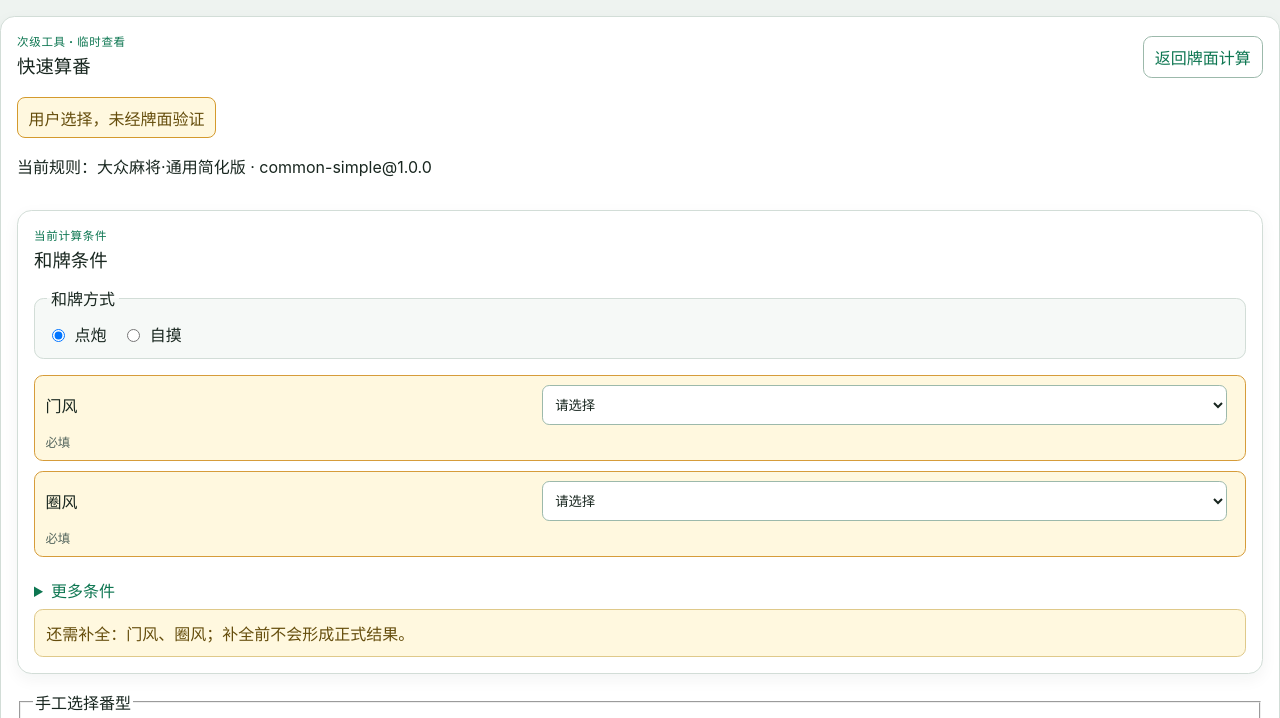
Test: QuickCalcPanel › inherits the rule, selects patterns and keeps the result visibly unverified
Expected: the text "用户选择，未经牌面验证" is shown once, x1=17 y1=97 x2=216 y2=138
Expected: the text "当前规则：大众麻将·通用简化版 · common-simple@1.0.0" is shown, x1=17 y1=157 x2=432 y2=177
Select "东风" in the dropdown labelled "门风" at (884, 405), box x1=542 y1=385 x2=1227 y2=425
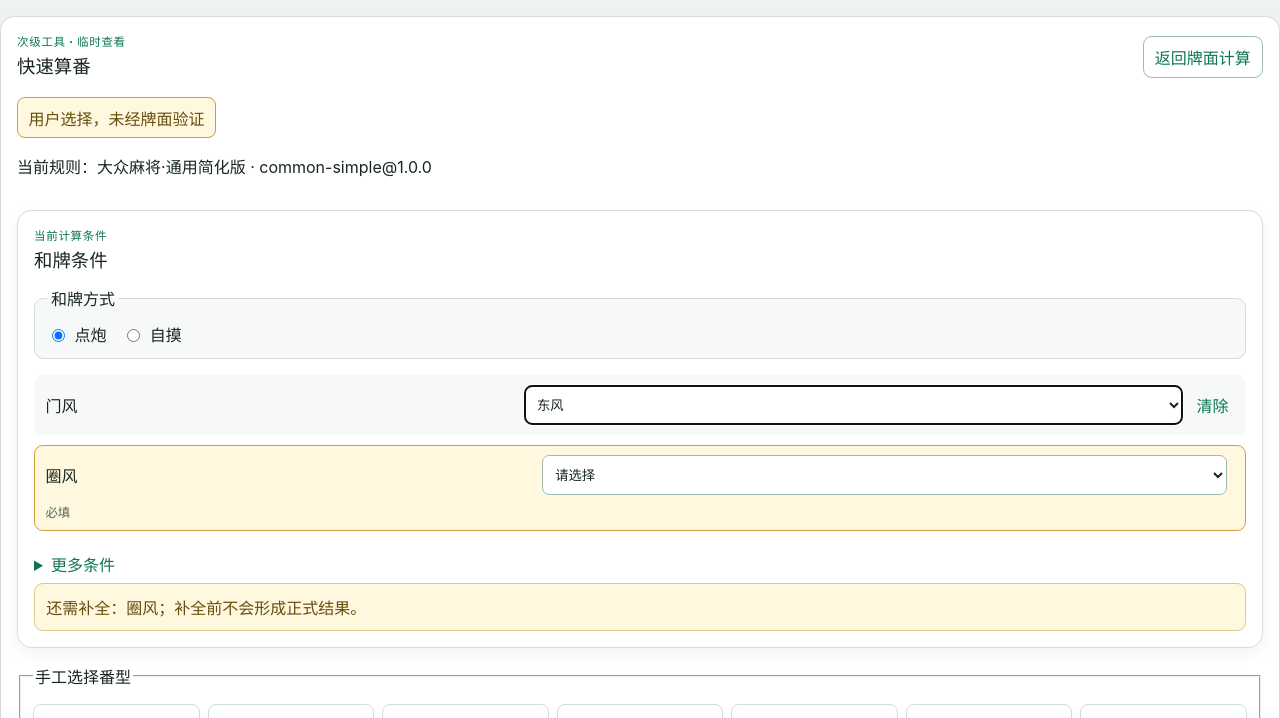
Select "南风" in the dropdown labelled "圈风" at (884, 475), box x1=542 y1=455 x2=1227 y2=495
(page scrolled)
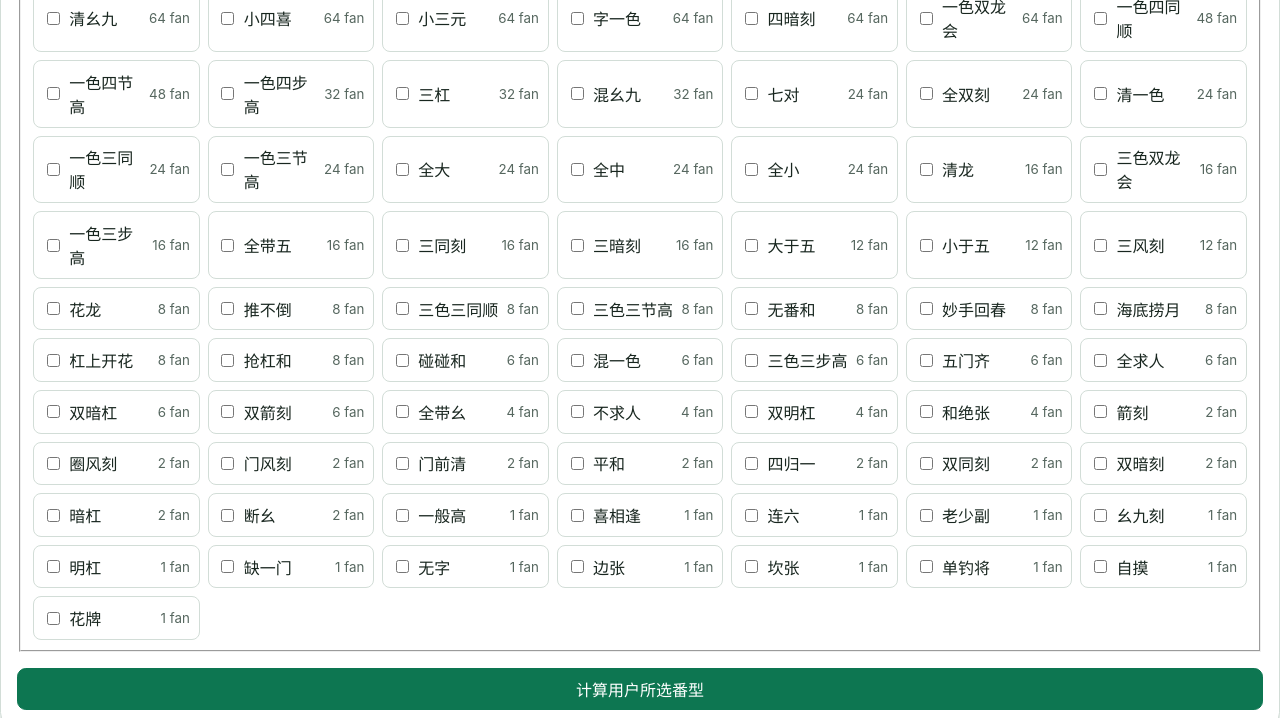
Click the checkbox labelled "碰碰和 6 fan" at (402, 360), box x1=396 y1=354 x2=409 y2=367
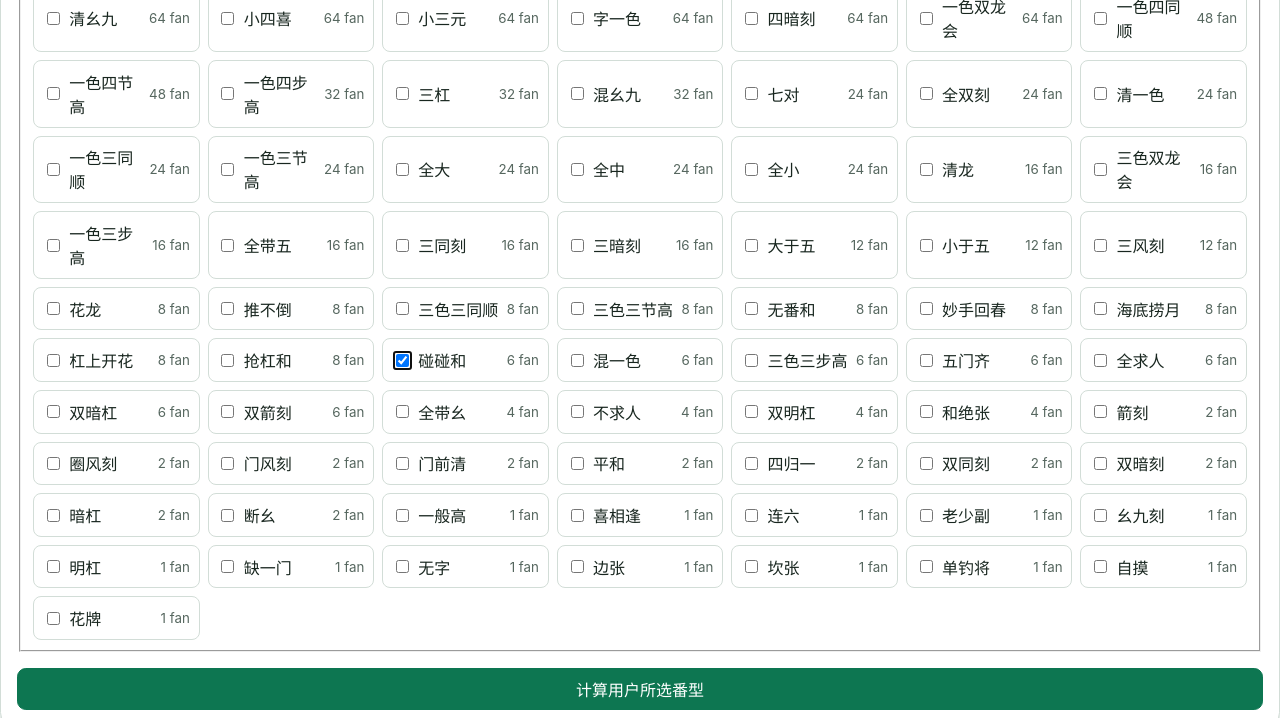
Click the button "计算用户所选番型" at (640, 689), box x1=17 y1=668 x2=1263 y2=710
(page scrolled)
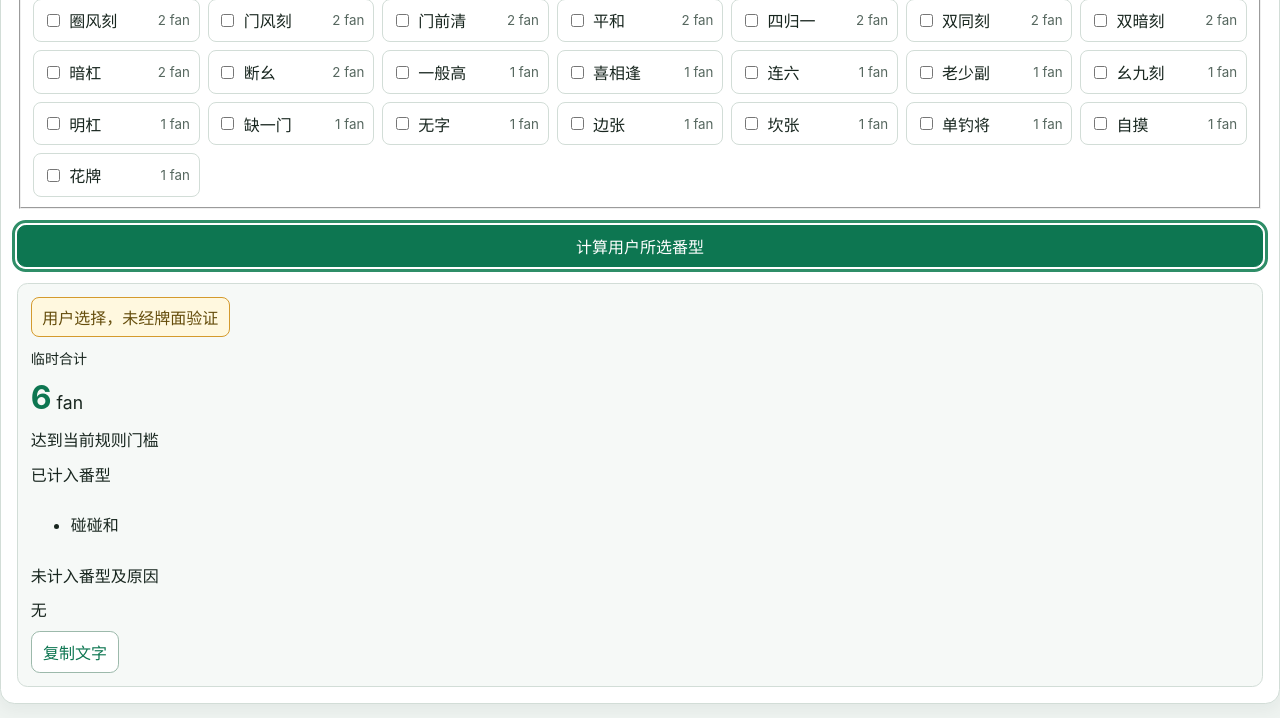
Now the heading "临时合计" is shown, box x1=31 y1=350 x2=87 y2=366
Now the text "达到当前规则门槛" is shown, box x1=31 y1=430 x2=159 y2=450
